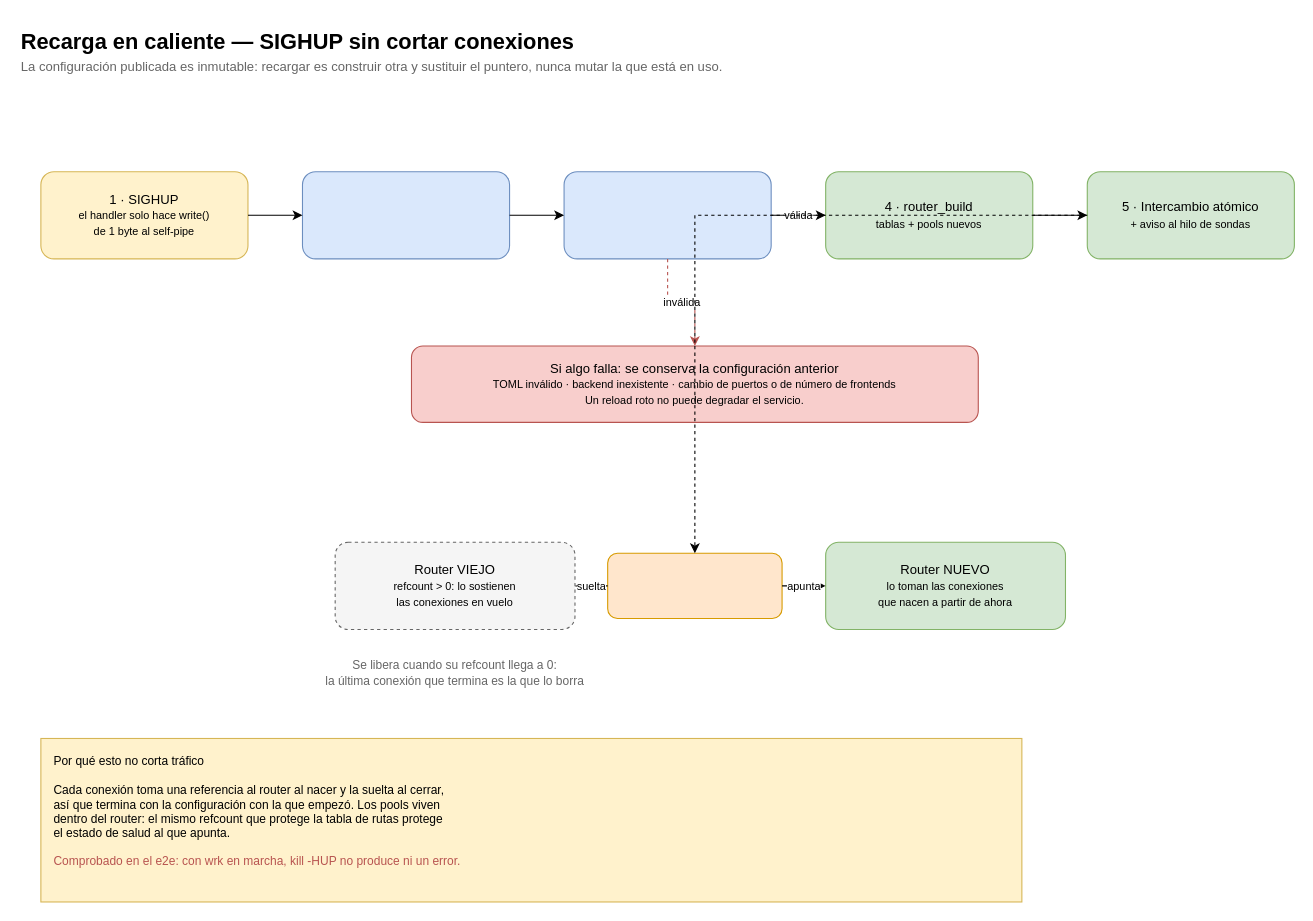
Some shapes in this 1313 by 921 pixel diagram are drawn without their labels. The shapes that lost their labels are listed below. From the top down, each one's centre as x and y in pixels, then its label:
At pixel 405 215: "2 · El bucle despierta lee el pipe drenando hasta EAGAIN".
At pixel 667 215: "3 · Parsea y valida en memoria nueva".
At pixel 694 585: "router_slot".
